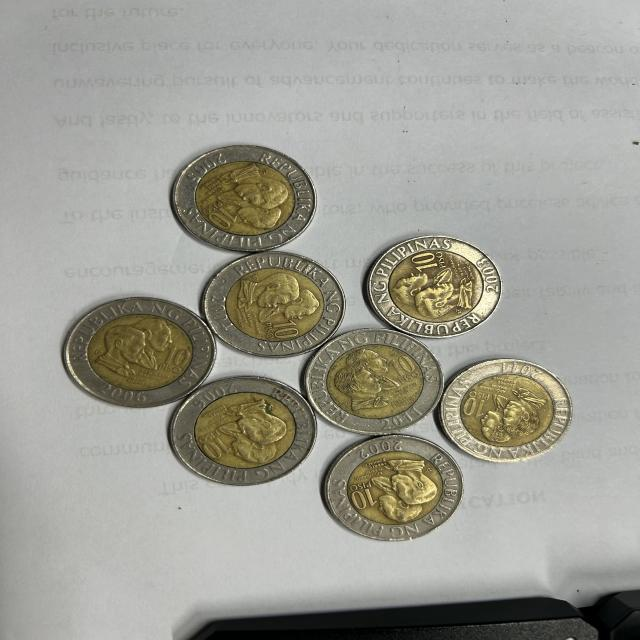10_Old_Front: (385, 352, 418, 380), (205, 205, 241, 230), (270, 319, 304, 342), (162, 345, 190, 372), (200, 436, 230, 459), (349, 487, 378, 510), (461, 397, 487, 422), (413, 252, 441, 272)
